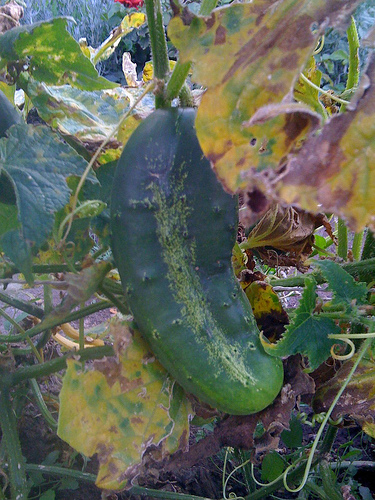cucumber: (96, 102, 295, 420)
